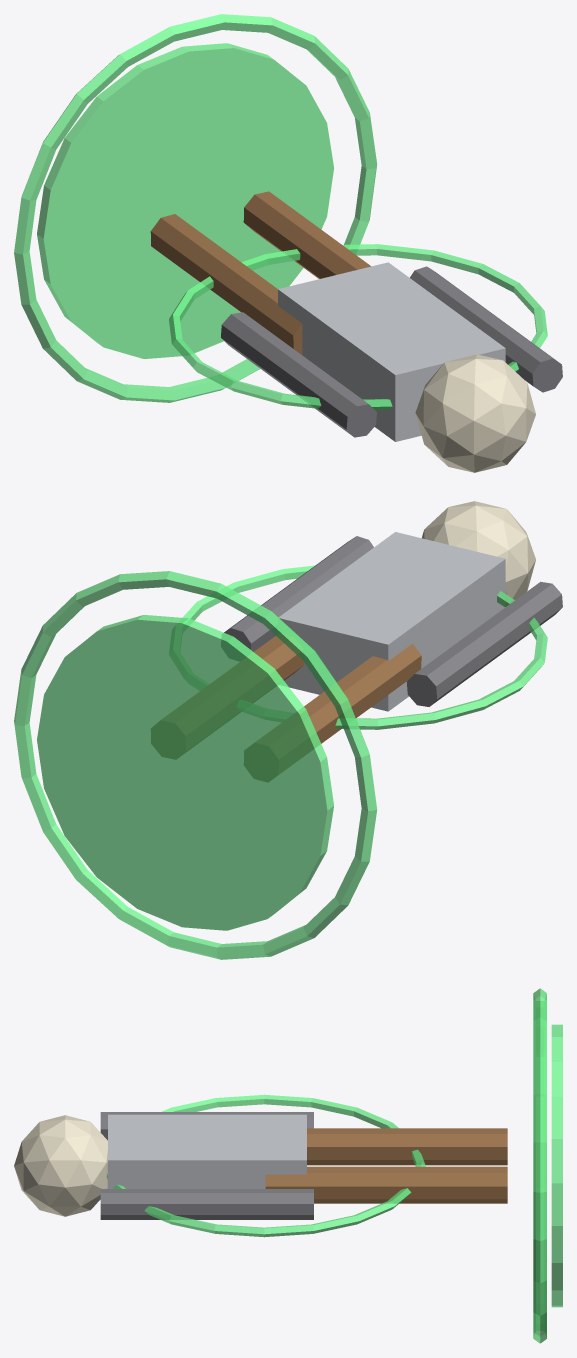
Rendered from vendor_talk_pose.glb.
3 renders of one model, top to bottom at view 1: azimuth 30°, elevation 25°; view 2: azimuth 150°, elevation 25°; view 3: azimuth 270°, elevation 25°, orthographic. The views are drawn at different scales.
Visible parts, largest first — view 1: marker_disc, torso, marker_ring, head, left_leg, motion_arc, left_arm, right_leg, right_arm; view 2: marker_disc, torso, marker_ring, left_leg, right_leg, left_arm, head, motion_arc, right_arm; view 3: torso, right_leg, left_leg, head, right_arm, motion_arc, marker_ring, marker_disc, left_arm.
Part boxes in pixels (x1,y1,x2,y2): marker_disc: [37, 43, 333, 358]; torso: [278, 262, 505, 441]; marker_ring: [14, 14, 377, 402]; head: [415, 354, 535, 472]; left_leg: [150, 214, 302, 354]; motion_arc: [169, 244, 547, 410]; left_arm: [221, 312, 376, 437]; right_leg: [243, 191, 371, 278]; right_arm: [410, 266, 562, 392]; marker_disc: [37, 615, 333, 930]; torso: [278, 532, 505, 711]; marker_ring: [14, 571, 377, 959]; left_leg: [244, 643, 421, 781]; right_leg: [151, 634, 304, 758]; left_arm: [407, 581, 562, 706]; head: [422, 501, 535, 605]; motion_arc: [179, 565, 547, 729]; right_arm: [221, 536, 373, 660]; torso: [108, 1114, 306, 1188]; right_leg: [265, 1166, 507, 1203]; left_leg: [307, 1128, 507, 1165]; head: [14, 1115, 107, 1216]; right_arm: [100, 1189, 313, 1219]; motion_arc: [106, 1094, 425, 1237]; marker_ring: [533, 988, 546, 1343]; marker_disc: [551, 1024, 562, 1307]; left_arm: [100, 1112, 313, 1140].
Bounding box in the file's own units: 1.25 × 1.24 × 1.93.
